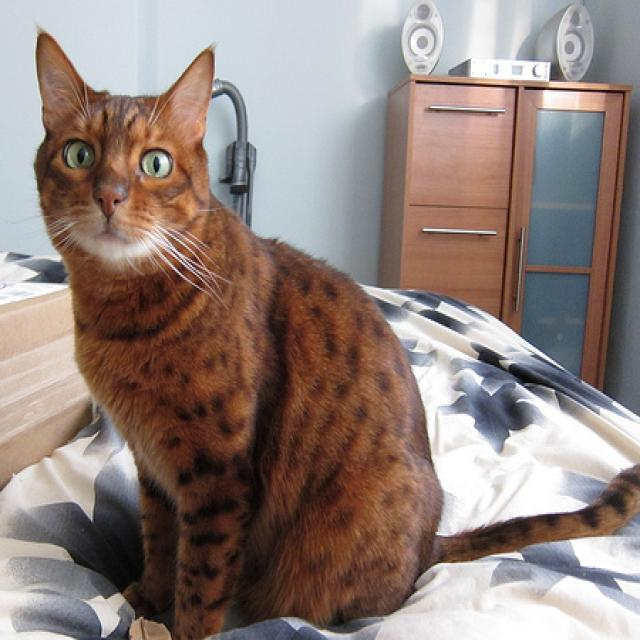Bengal: (28, 13, 640, 640)
